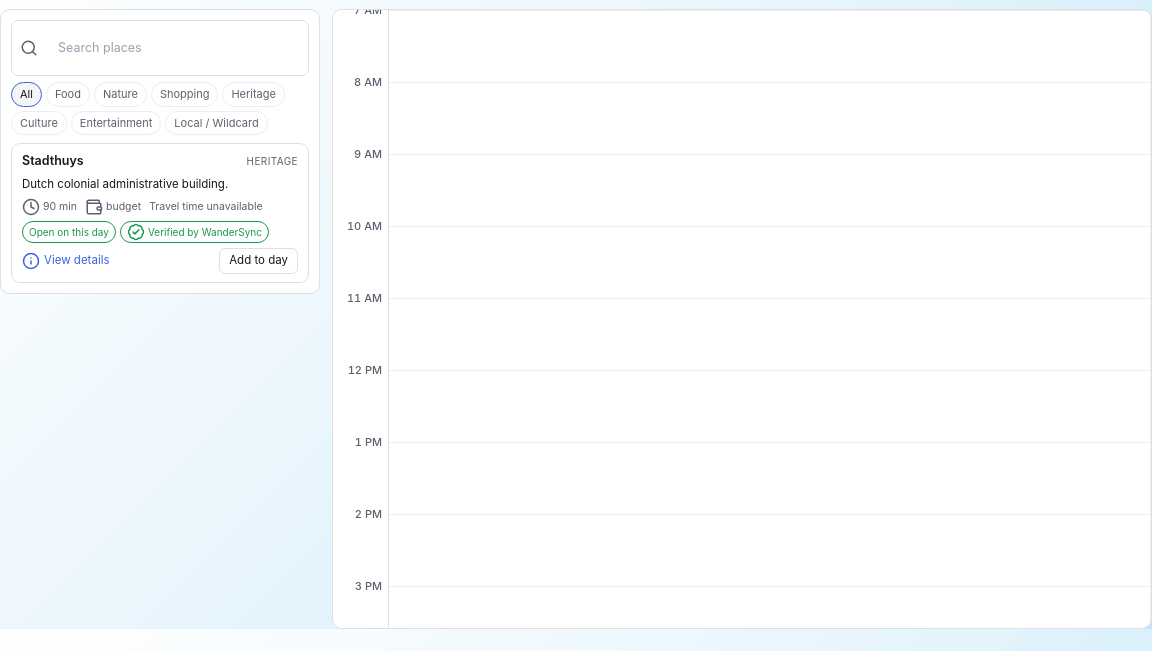
Test: POI choice pool › opens a detail sheet with hours, sources and verification date
The width and height of the screenshot is (1152, 651).
(page scrolled)
Click the button "View details": (66, 261) [22,252,110,270]
(page scrolled)
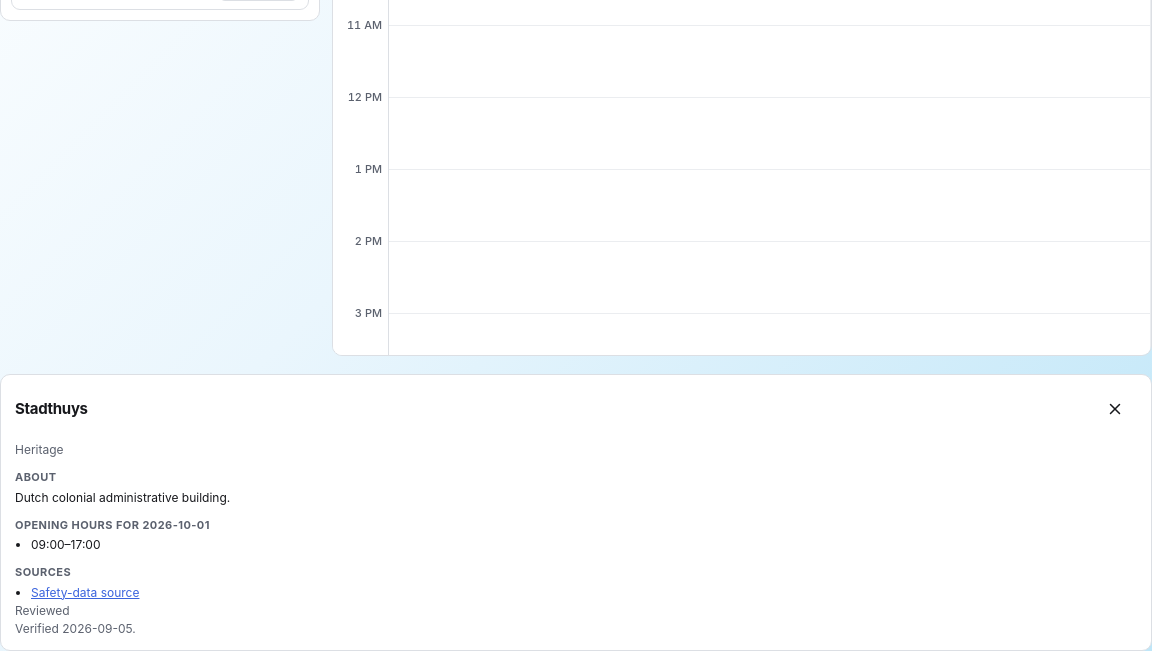
Now the list item "09:00–17:00" is shown, box [31,537,100,552]
Now the link "Safety-data source" is shown, box [31,585,140,600]
Now the text "Verified 2026-09-05." is shown, box [15,621,136,636]
